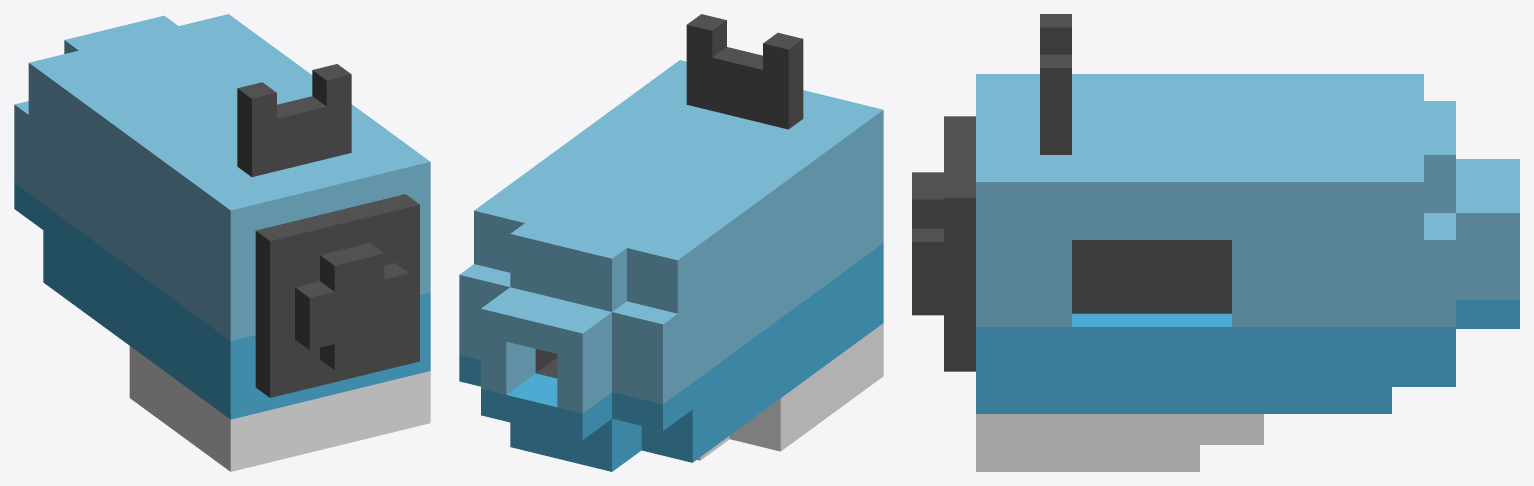
File: Torreta-1.obj
3 views of the same model, side by side, from view 1: azimuth 30°, elevation 25°; view 2: azimuth 150°, elevation 25°; view 3: azimuth 270°, elevation 25° (orthographic). The views are drawn at different scales.
Size of the model in its own units: 0.8 by 1.3 by 1.9.
Materials: 1 (1 with a texture image).
